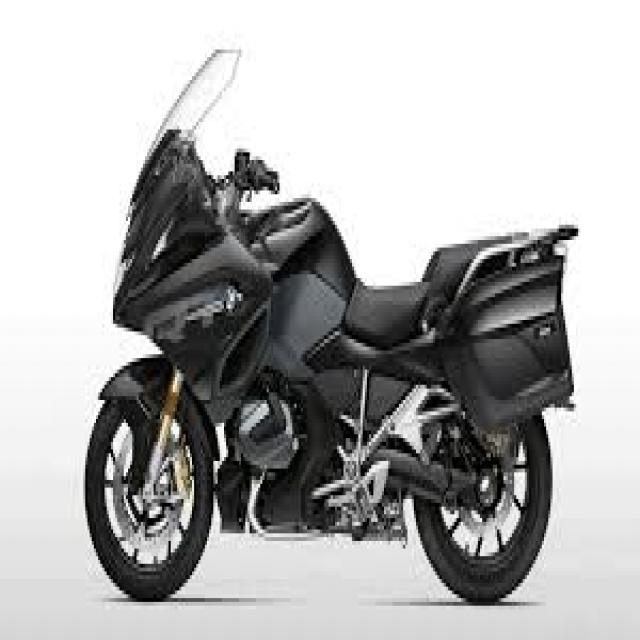Bike: (83, 46, 580, 606)
